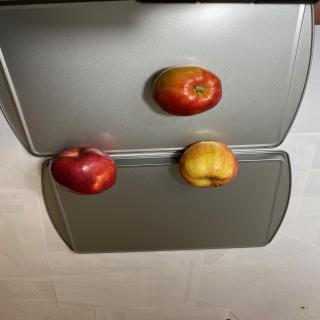Apple: (152, 65, 222, 116), (49, 147, 117, 195), (178, 140, 238, 188)
